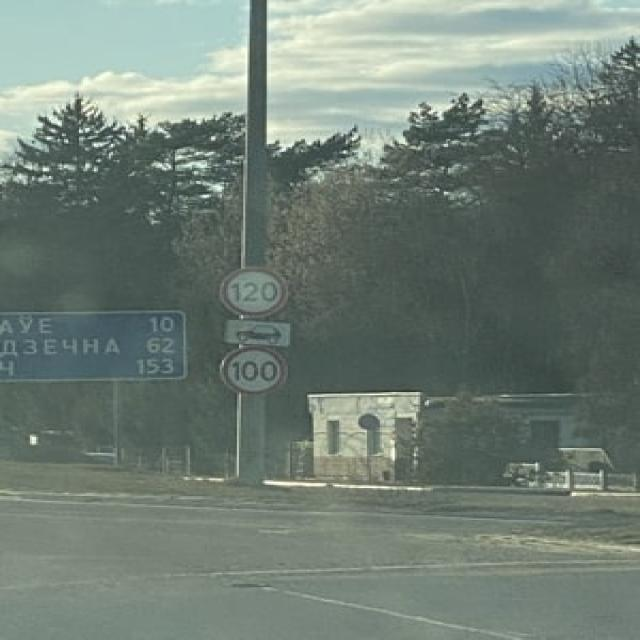Speed Limit -100-: (230, 359, 279, 381)
Speed Limit -120-: (230, 280, 280, 303)
